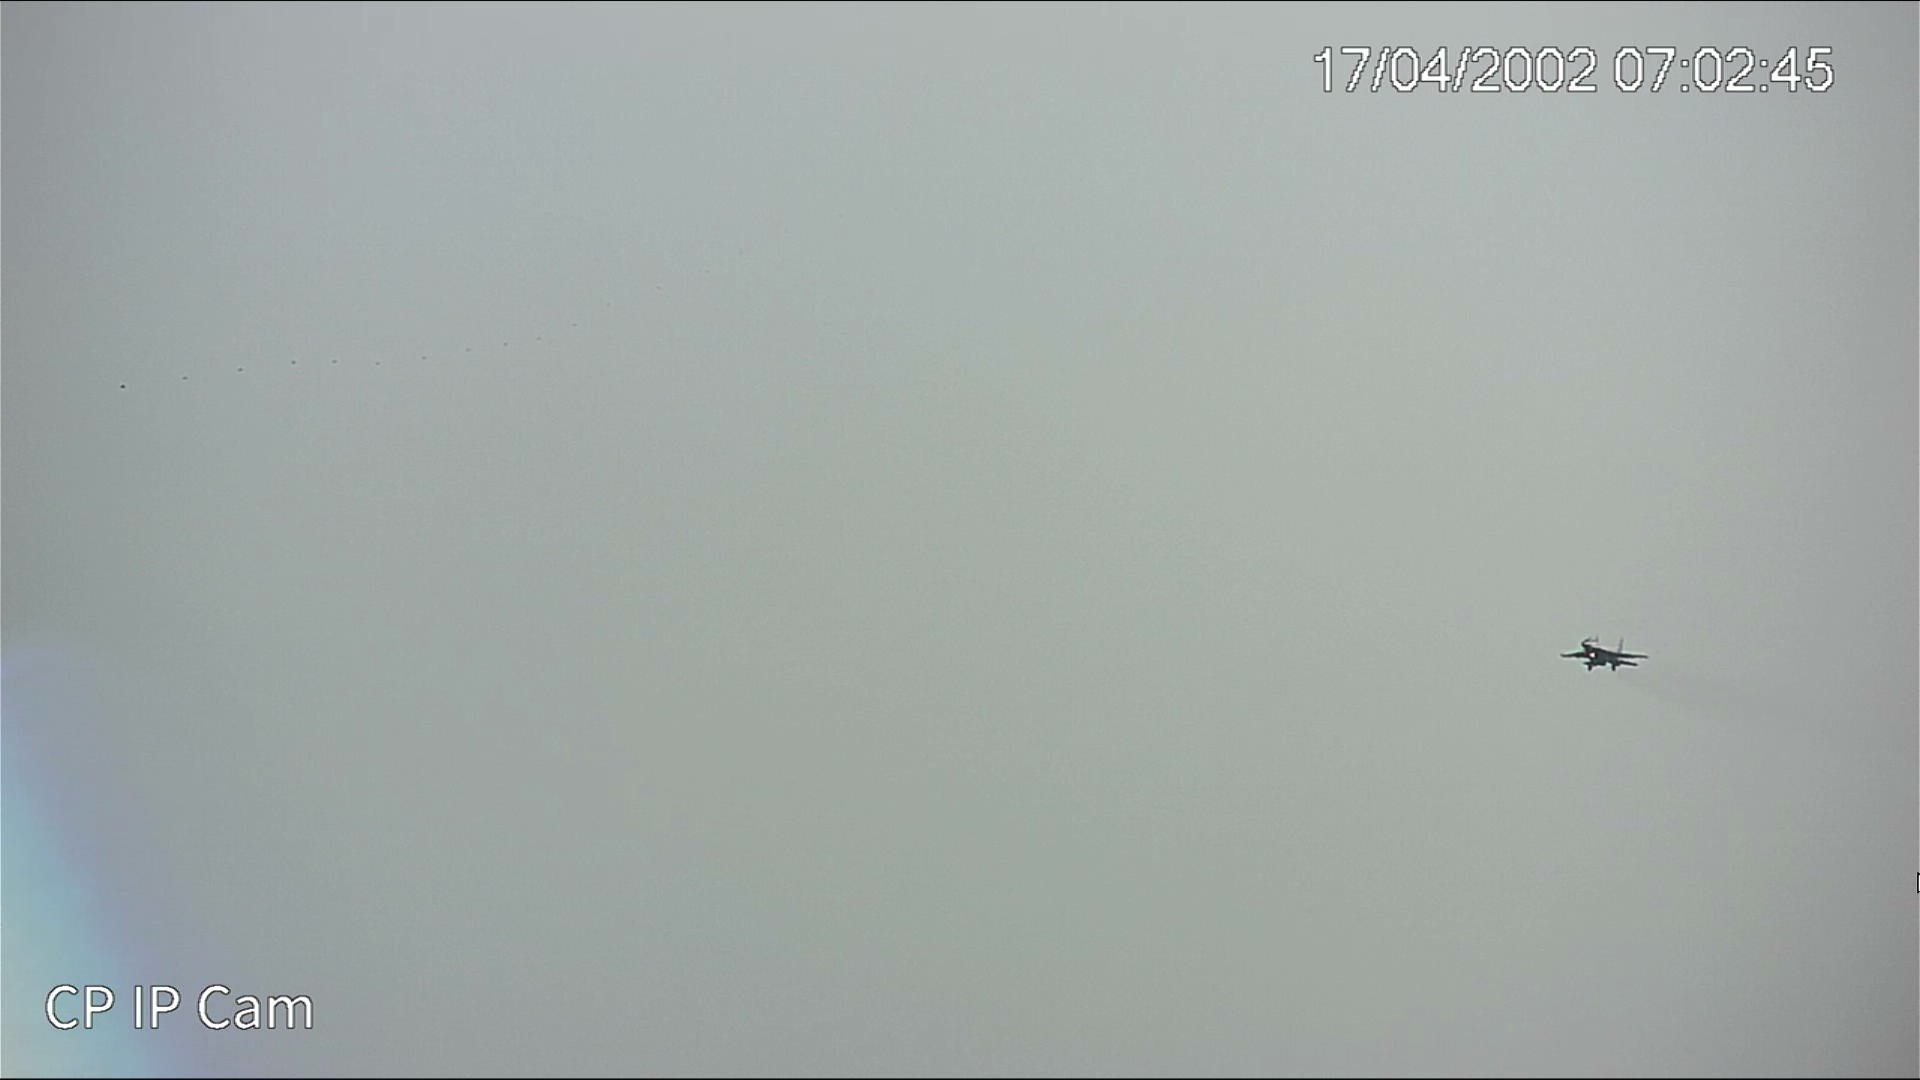SU_30: (1561, 632, 1650, 673)
